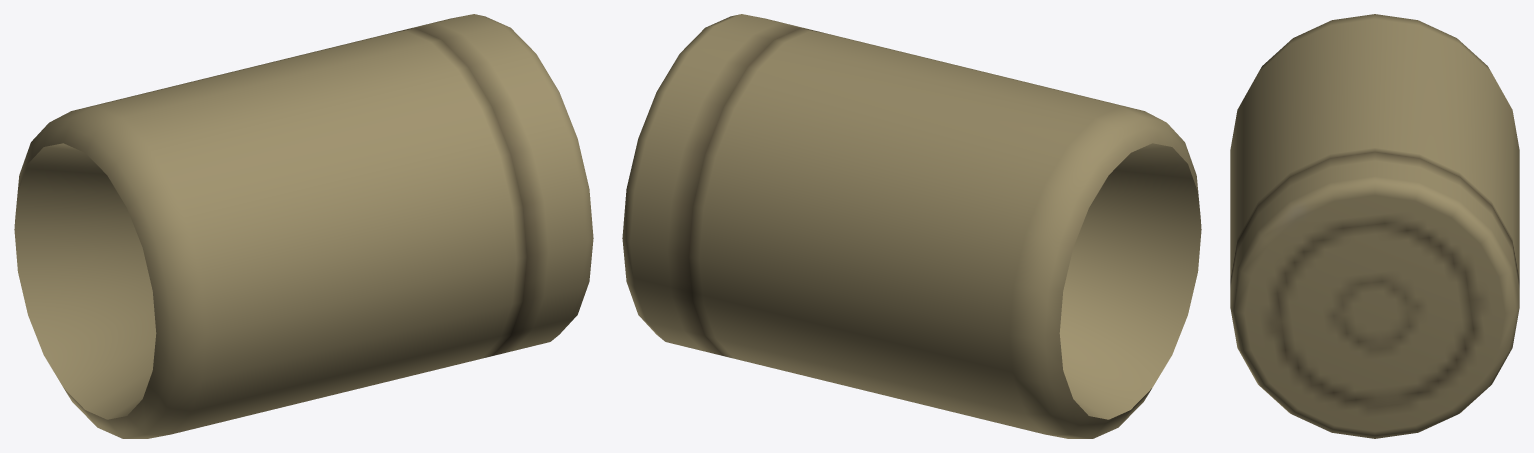
Rendered from sm_projectile_shell_gun_02.fbx.
3 renders of one model, left to right at view 1: azimuth 30°, elevation 25°; view 2: azimuth 150°, elevation 25°; view 3: azimuth 270°, elevation 25°, orthographic. The views are drawn at different scales.
Visible parts, largest first — view 1: sm_projectile_shell_gun_02; view 2: sm_projectile_shell_gun_02; view 3: sm_projectile_shell_gun_02.
Boxes of the visible parts, x1,y1,x2,y2 form: sm_projectile_shell_gun_02: [14, 14, 593, 438]; sm_projectile_shell_gun_02: [622, 14, 1201, 438]; sm_projectile_shell_gun_02: [1230, 14, 1519, 438].
Bounding box in the file's own units: 6.92 × 4.75 × 4.75.
